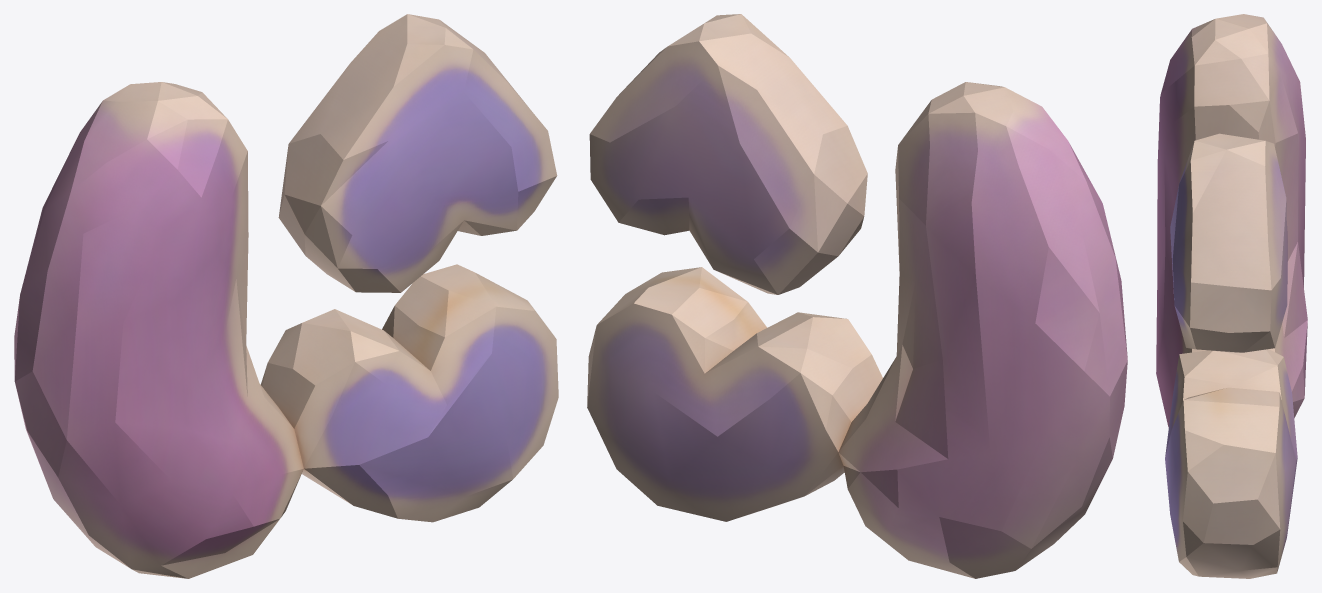
The picture shows the model from 3 angles, left to right: view 1: azimuth 30°, elevation 25°; view 2: azimuth 150°, elevation 25°; view 3: azimuth 270°, elevation 25°; orthographic projection. The views are drawn at different scales.
Parts seen in each view (by area): view 1: model; view 2: model; view 3: model.
Boxes of the visible parts, x1,y1,x2,y2 form: model: (14,14,558,578); model: (587,14,1127,578); model: (1156,14,1307,578).
Bounding box in the file's own units: 188 × 166 × 53.49.
1 material, 1 textured.
